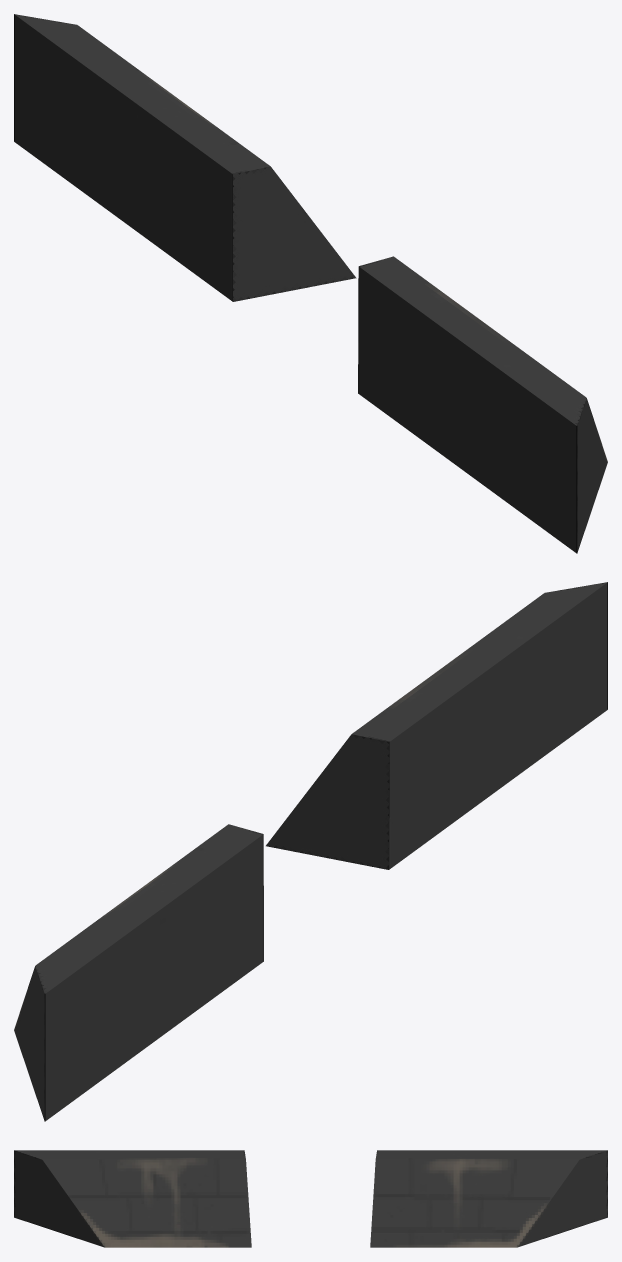
Rendered from Doorway_Horizontal2.fbx.
3 renders of one model, top to bottom at view 1: azimuth 30°, elevation 25°; view 2: azimuth 150°, elevation 25°; view 3: azimuth 270°, elevation 25°, orthographic. The views are drawn at different scales.
Visible parts, largest first — view 1: Wall_Door_East; view 2: Wall_Door_East; view 3: Wall_Door_East.
Part boxes in pixels (<box>): Wall_Door_East: <box>14,14,607,553</box>; Wall_Door_East: <box>14,582,607,1121</box>; Wall_Door_East: <box>14,1150,607,1247</box>.
Bounding box in the file's own units: 288 × 300 × 2400.
1 material, 1 textured.
